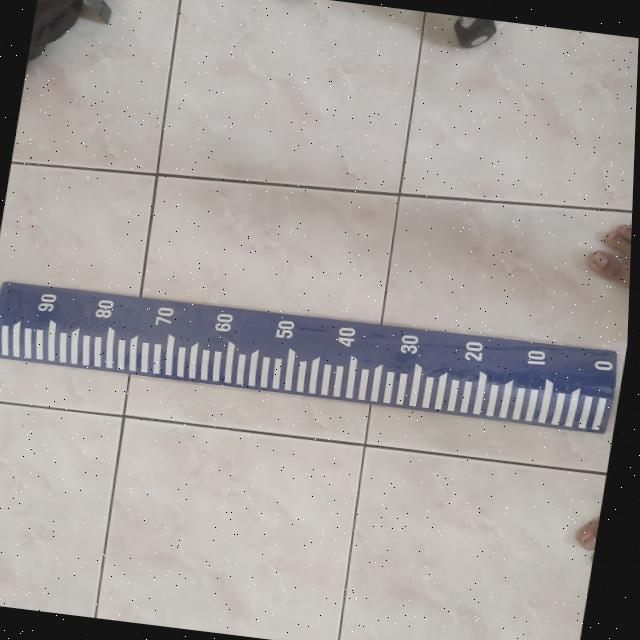water-meter: (0, 250, 631, 449)
